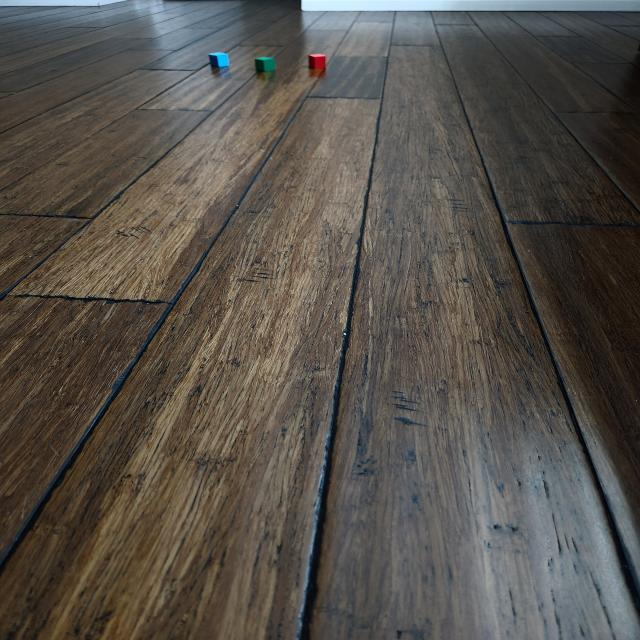bluecube: (209, 51, 230, 68)
green cube: (254, 56, 276, 72)
red cube: (308, 53, 326, 69)
